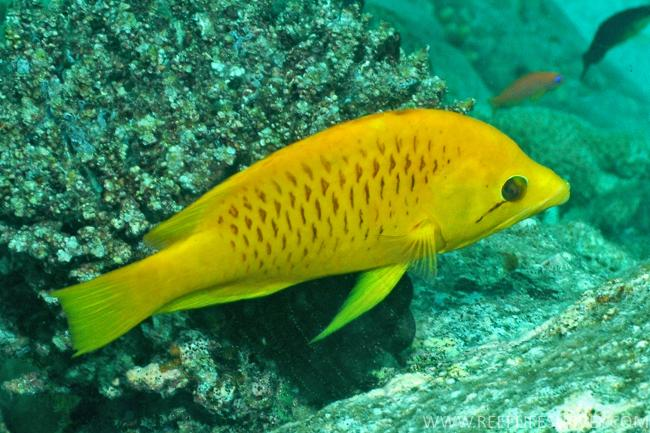fish: (50, 107, 571, 357)
